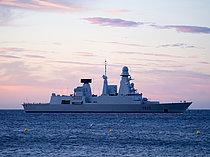MIL_Ship: (22, 66, 196, 113)
